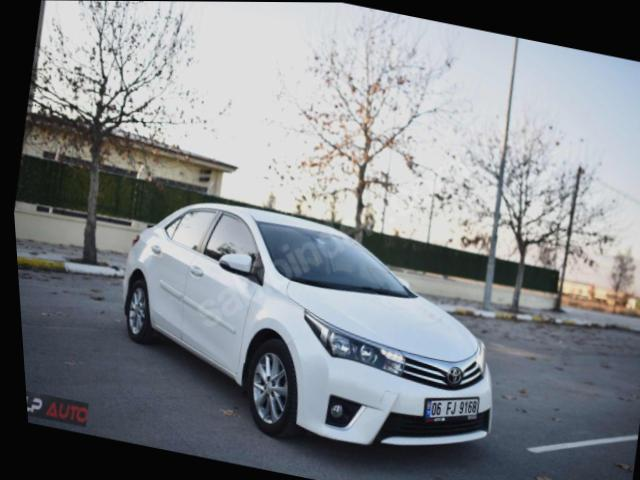plaka: (424, 397, 479, 421)
